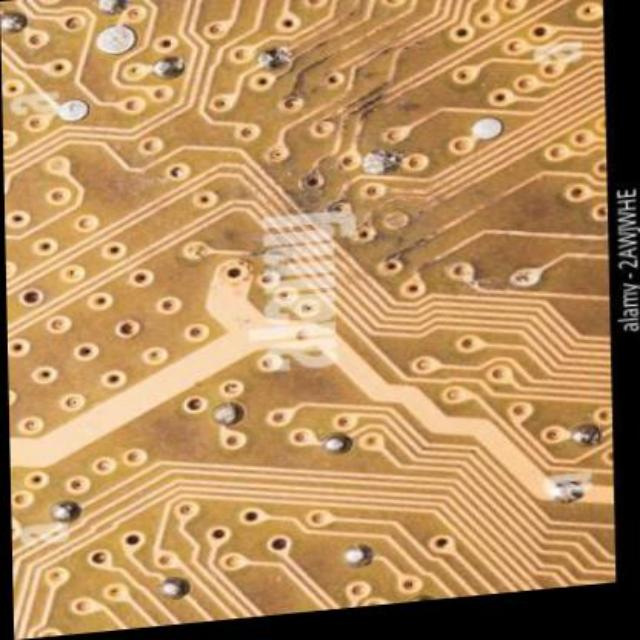PCB: (1, 1, 622, 602)
